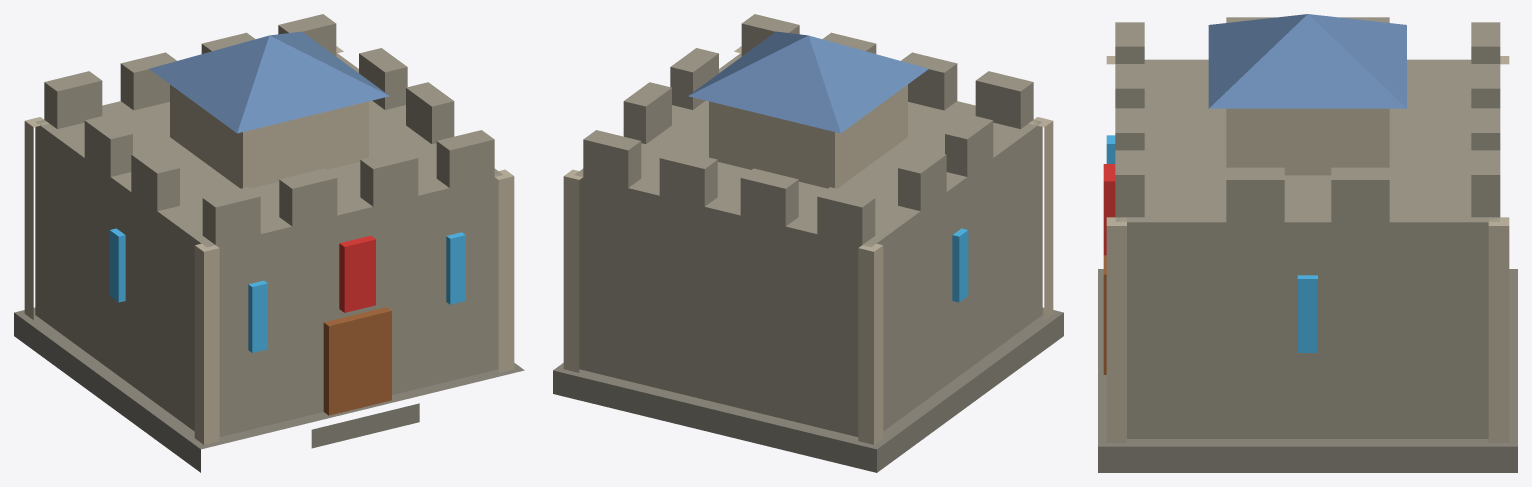
Rendered from house_t3_v2.glb.
The picture shows the model from 3 angles, left to right: view 1: azimuth 30°, elevation 25°; view 2: azimuth 150°, elevation 25°; view 3: azimuth 270°, elevation 25°; orthographic projection. The views are drawn at different scales.
Parts seen in each view (by area): view 1: house_t3_v2; view 2: house_t3_v2; view 3: house_t3_v2.
Boxes of the visible parts, box(x1,y1,x2,y2) form: house_t3_v2: box(14, 14, 524, 472); house_t3_v2: box(553, 14, 1063, 472); house_t3_v2: box(1098, 14, 1517, 472).
Bounding box in the file's own units: 0.72 × 0.7 × 0.73.
1 material, 1 textured.
